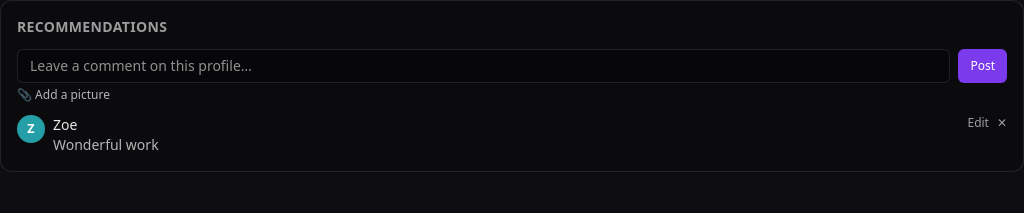
ProfileComments (testimonials) › shows the server's message if deleting fails, and keeps the comment
The width and height of the screenshot is (1024, 213).
Click the button "✕" at coordinates (1002, 123), box [997,115,1007,131]
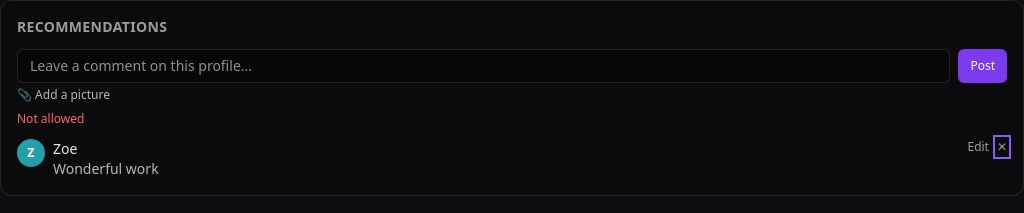
Expected: the text "Wonderful work" is shown, [53,159,159,178]
Now the text "Not allowed" is shown, box [17,110,84,127]
